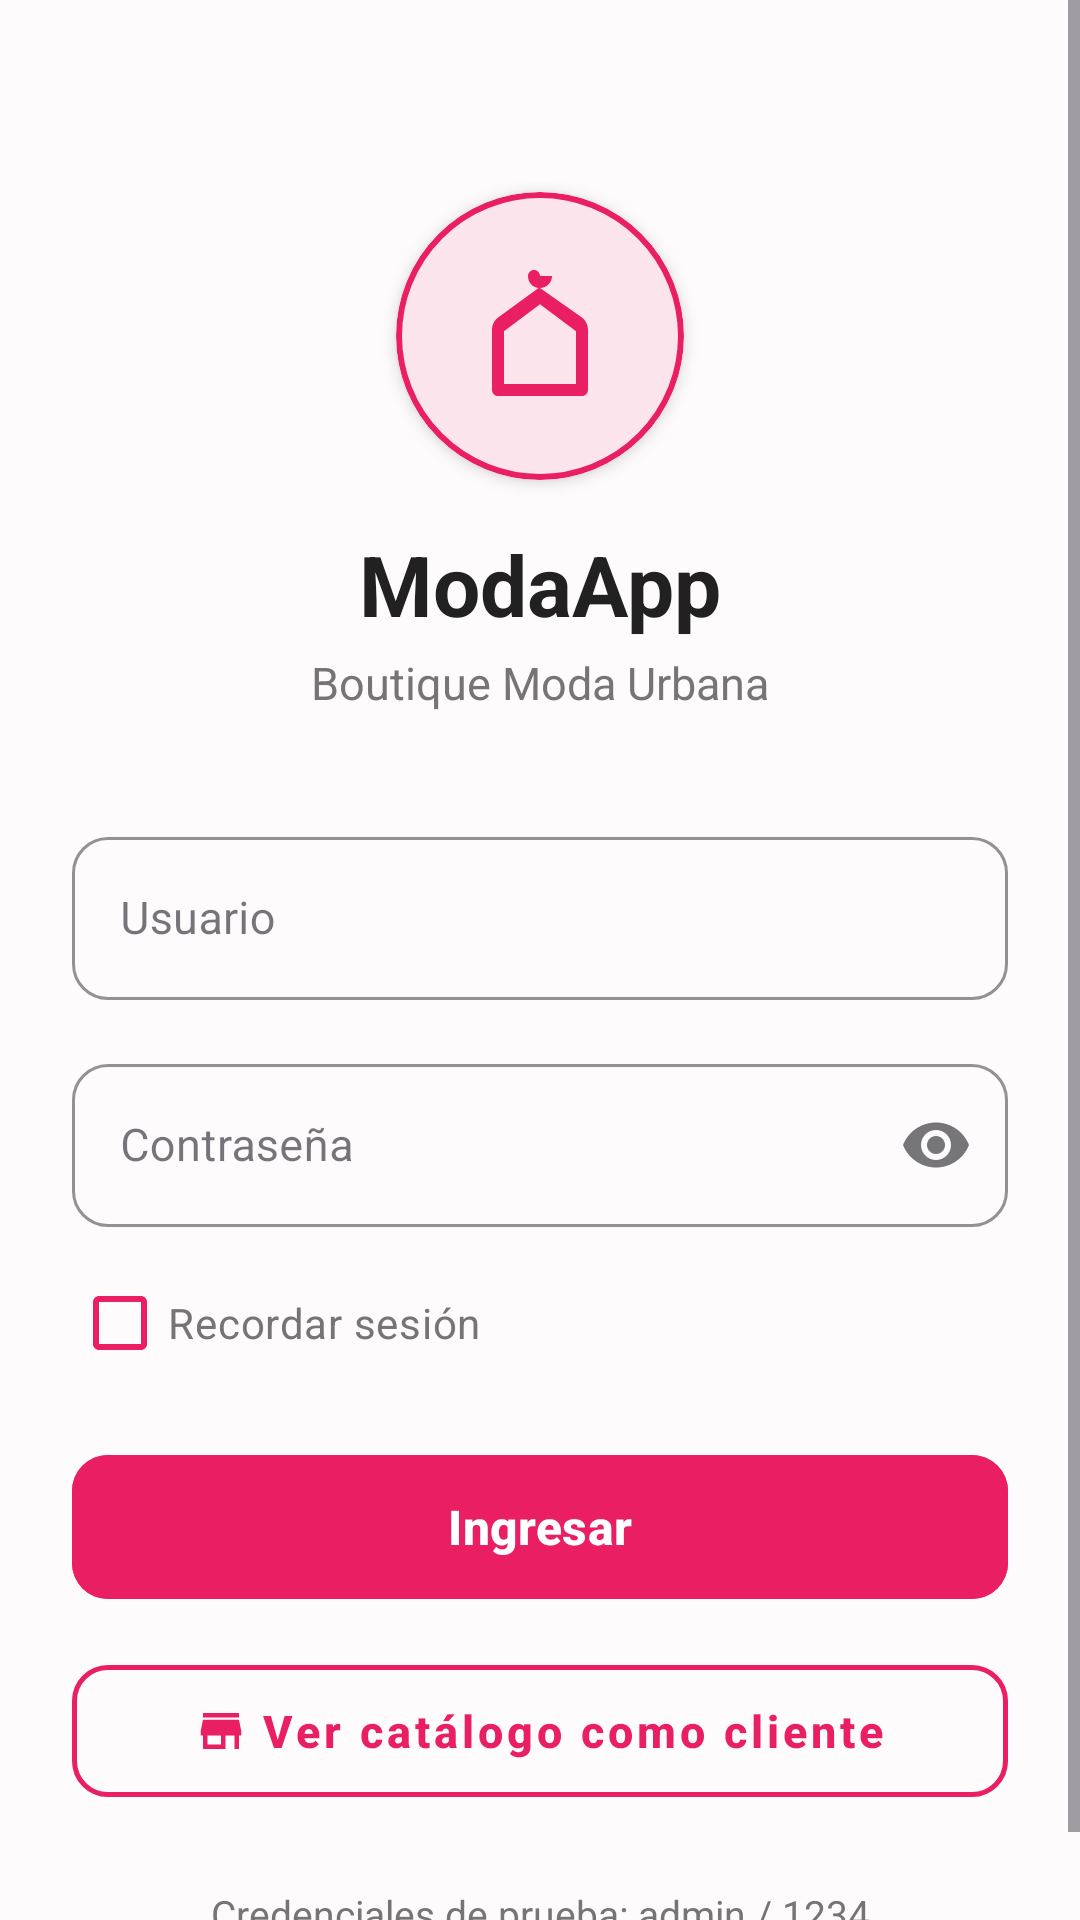

Named icons in this screenshot (1080w x 1920h) and their centers, (x,y):
ropa: (540,333)
